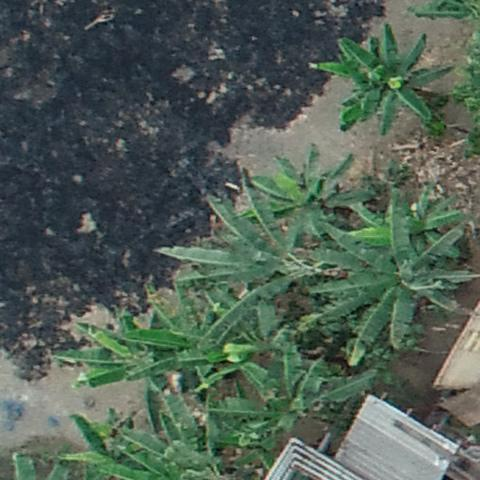Banana-plant: (314, 199, 467, 359), (181, 200, 323, 321), (211, 347, 378, 439), (245, 139, 376, 249), (322, 29, 453, 136), (70, 306, 217, 400), (82, 406, 212, 480), (91, 246, 92, 254)
